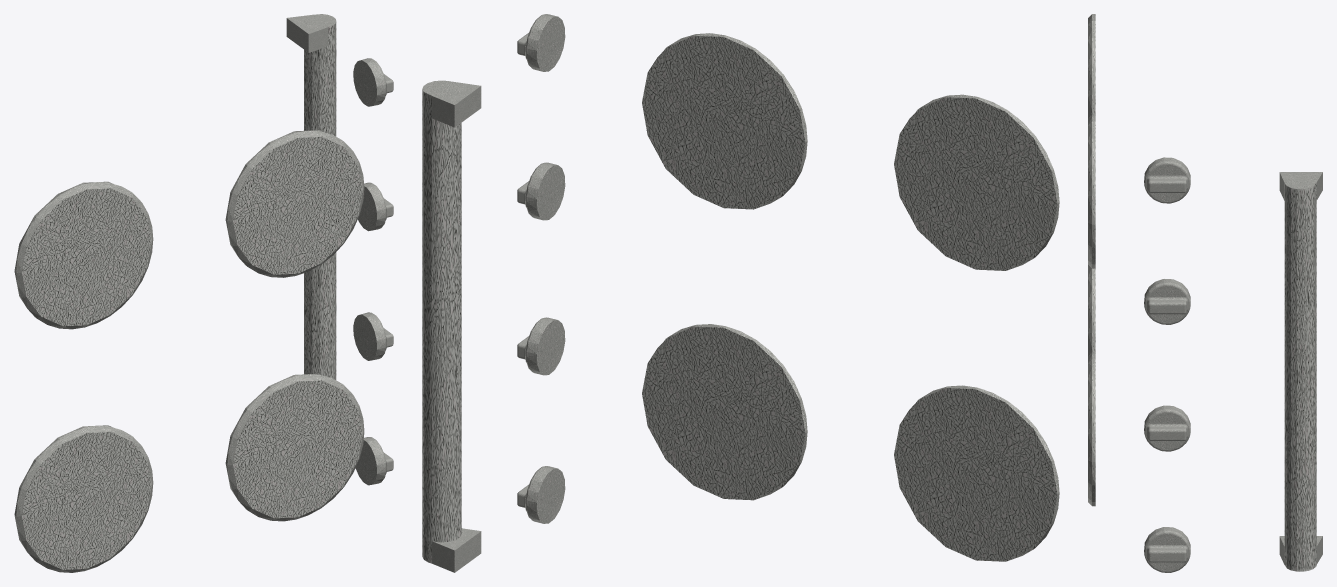
The model's file is cocina2.dae.
The picture shows the model from 3 angles, left to right: view 1: azimuth 30°, elevation 25°; view 2: azimuth 150°, elevation 25°; view 3: azimuth 270°, elevation 25°; orthographic projection. The views are drawn at different scales.
Parts seen in each view (by area): view 1: node; view 2: node; view 3: node.
Part boxes in pixels (x1,y1,x2,y2): node: (14,14,393,572); node: (422,14,1059,572); node: (1088,14,1322,572).
Bounding box in the file's own units: 586 × 556 × 287.
1 material, 1 textured.
